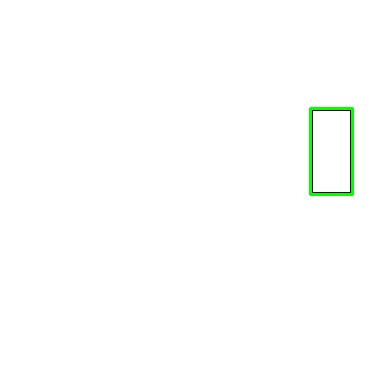line_segment: (309, 107, 353, 196)
